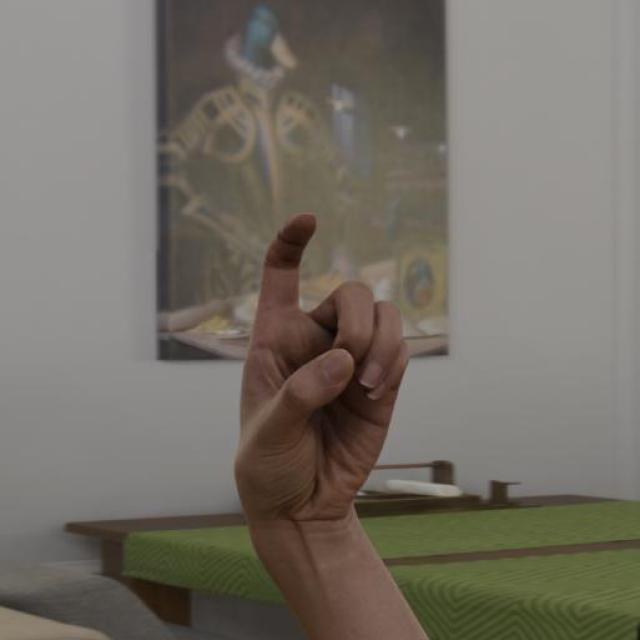X: (230, 211, 416, 521)
